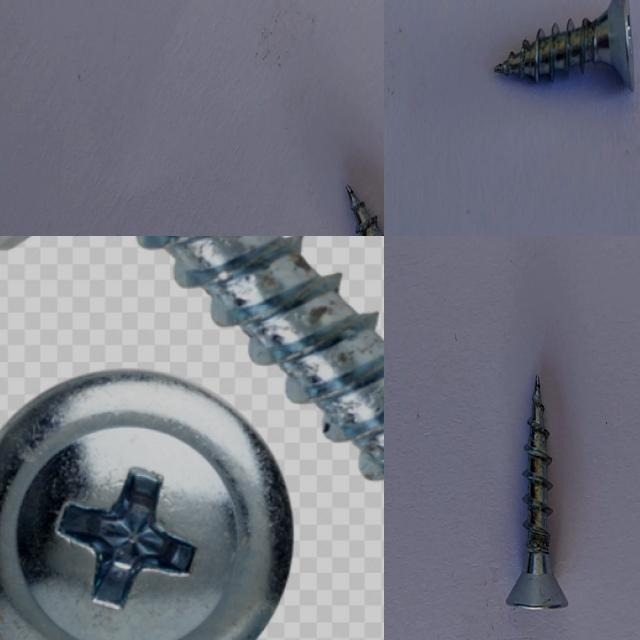Screw: (0, 371, 292, 640), (137, 236, 384, 480), (506, 375, 568, 609), (494, 0, 634, 90)
